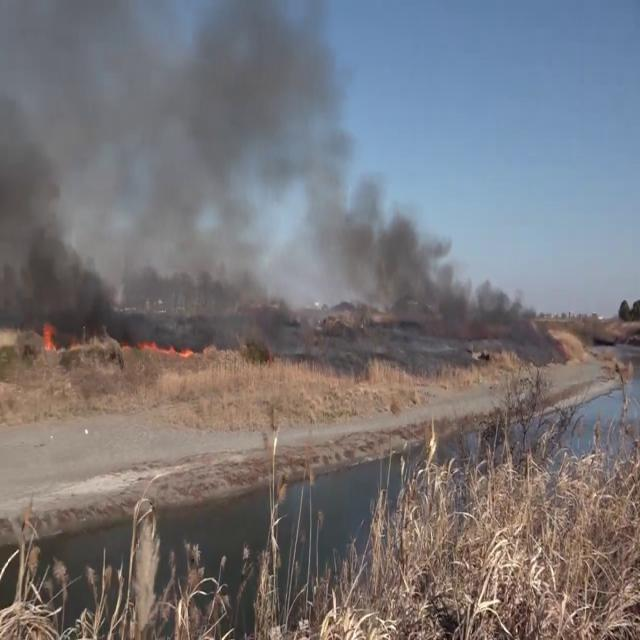Fire: (40, 313, 59, 355)
Smoke: (0, 0, 352, 342), (326, 182, 552, 342)
